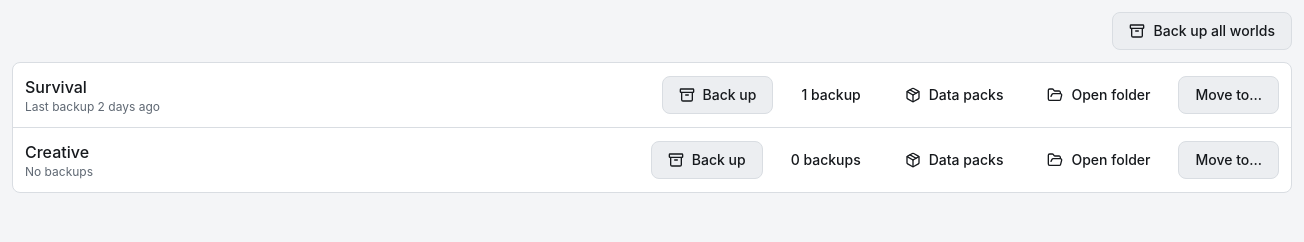
it: WorldsTab backups › backs up all worlds at once
This screenshot has width=1304, height=242.
Step 1. Click the button "Back up all worlds" → (1202, 31), box [1112, 12, 1292, 50]
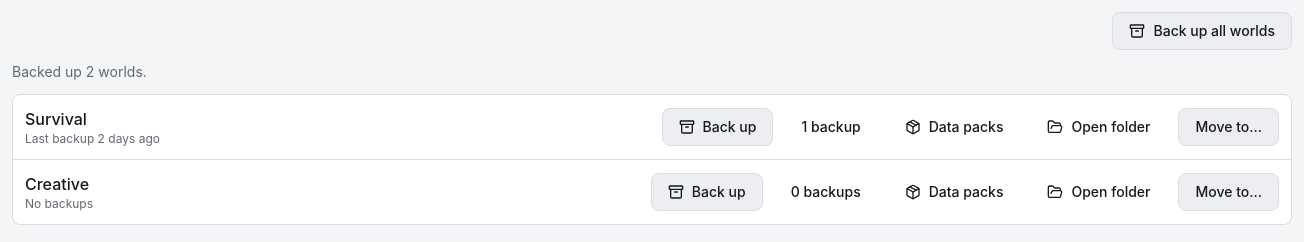
Now the text "Backed up 2 worlds." is shown, box [12, 63, 147, 80]
